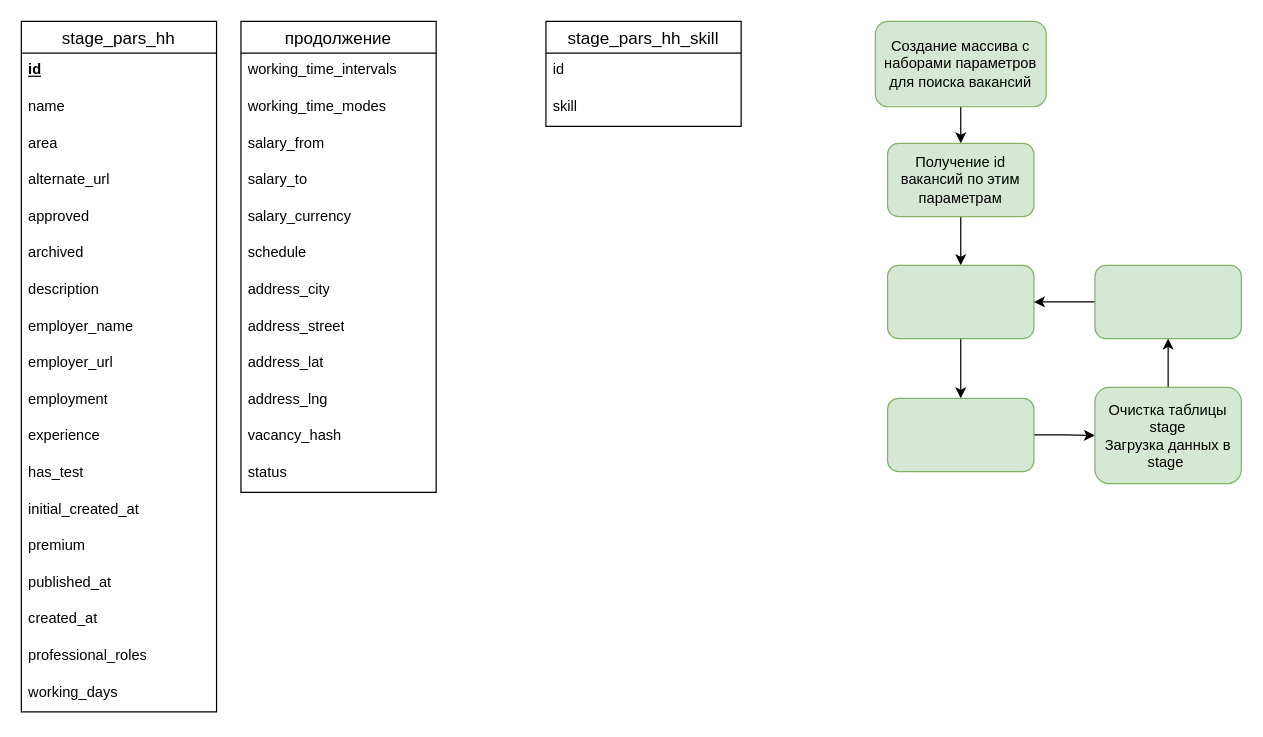
This 1263x737 diagram has some shape labels left out. Here are the shapes that lost their labels. From the top down, the centre of each, then its label:
At point 960,301: "Разделение датафрейма с id на пакеты по 500 штук.".
At point 1167,301: "Запуск функций в базе данных заполняющих core".
At point 960,434: "Загрузка информации о вакансиях по их id".
